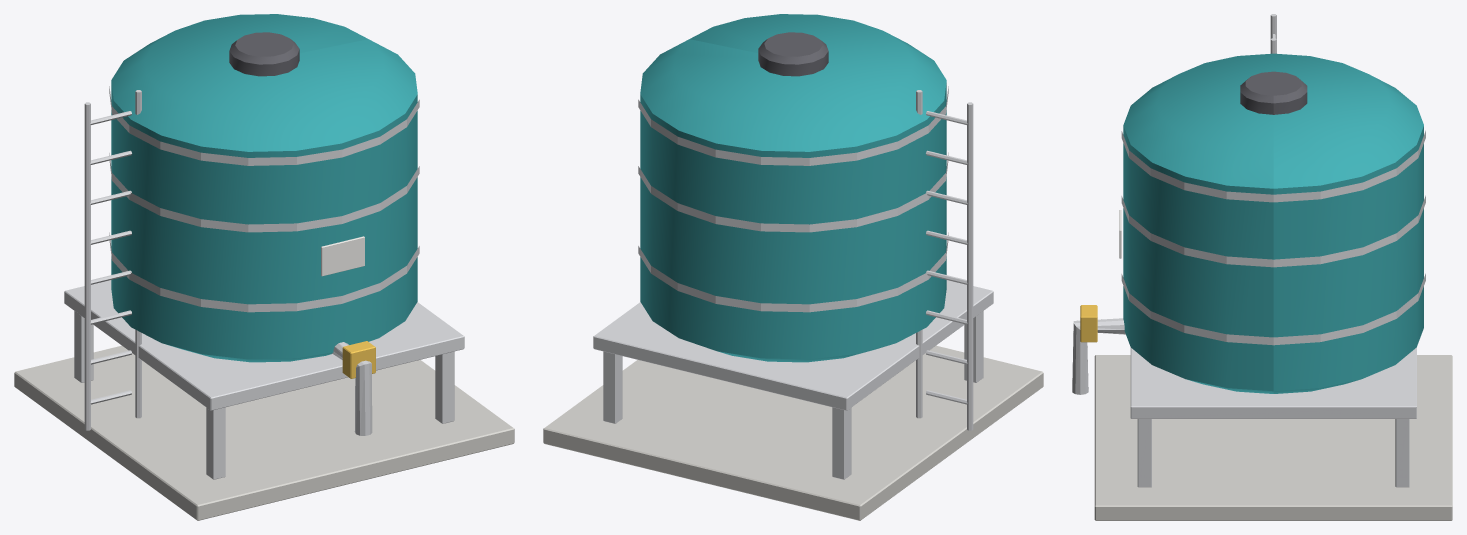
The model's file is motorway-services-and-truck-park-water-tank-cdb725aa__35978.glb.
3 renders of one model, left to right at view 1: azimuth 30°, elevation 25°; view 2: azimuth 150°, elevation 25°; view 3: azimuth 270°, elevation 25°, orthographic. The views are drawn at different scales.
Visible parts, largest first — view 1: water-tank; view 2: water-tank; view 3: water-tank.
Part boxes in pixels (x1=…): water-tank: x1=14, y1=14, x2=514, y2=520; water-tank: x1=543, y1=14, x2=1043, y2=520; water-tank: x1=1072, y1=14, x2=1452, y2=520.
Size of the model in its own units: 2.66 by 2.79 by 2.66.
